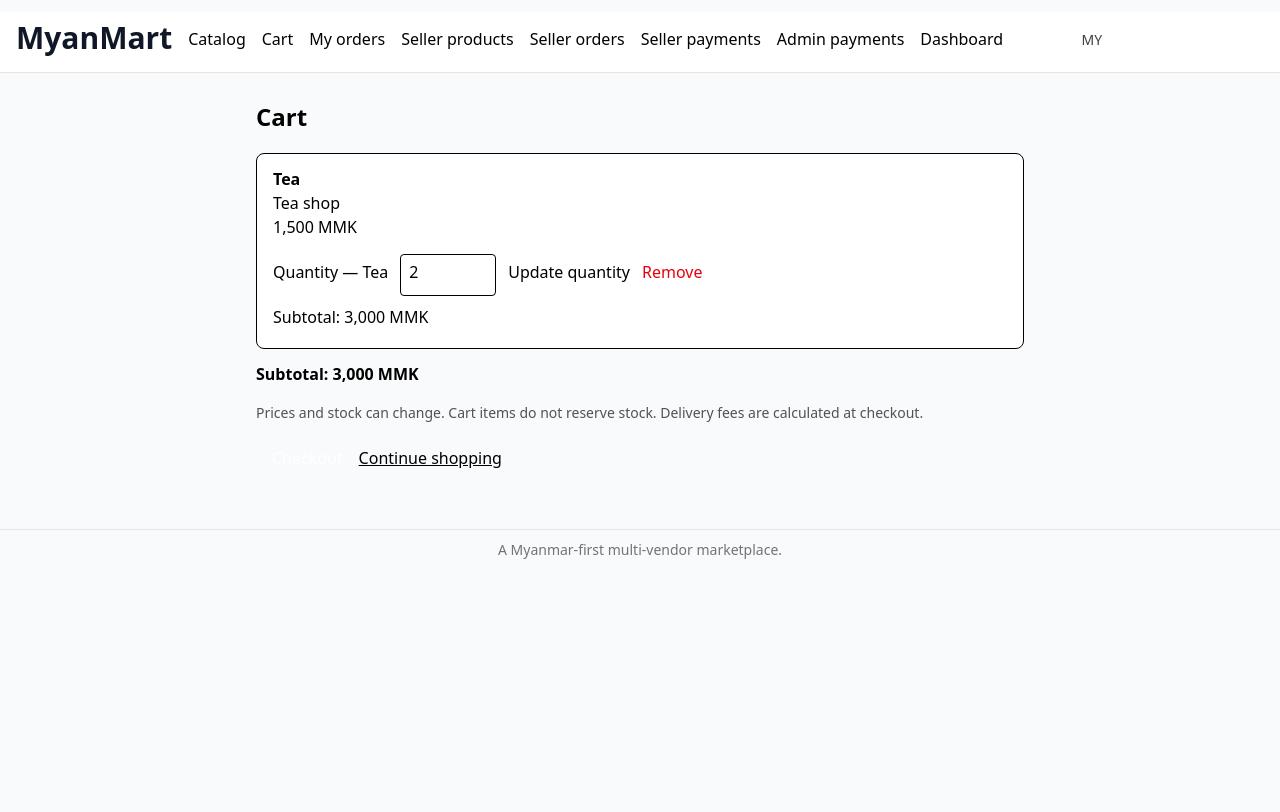
Test: shopping cart UI › refreshes changed stock after a conflict and keeps the error visible
Expected: the number field is shown, [400,254,496,296]
Click the button "Update quantity" at {"x": 569, "y": 275}, box [508,263,630,287]
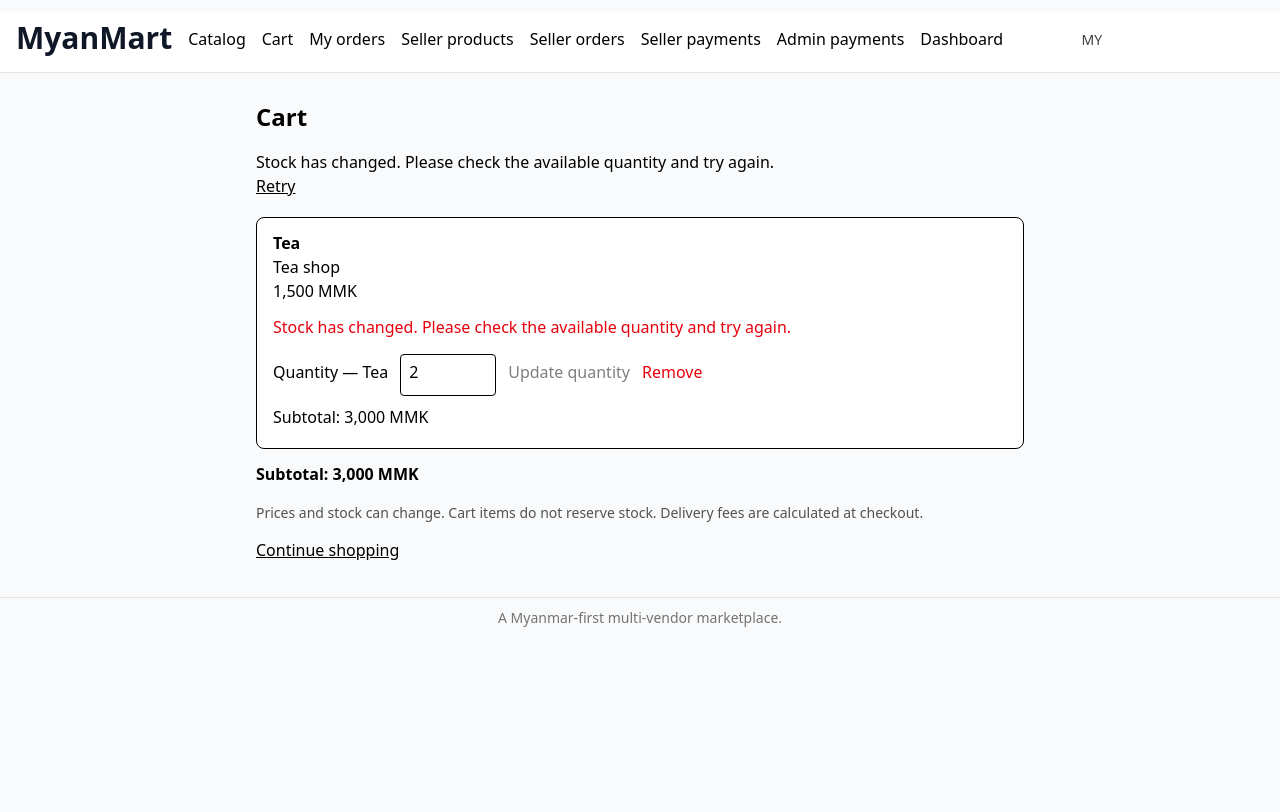
Expected: the button with aria-label "Remove — Tea" is enabled, [642,363,702,387]
Now the message "Stock has changed. Please check the available quantity and try again. Retry" is shown, box [256,147,774,201]
Now the number field is disabled, box [400,354,496,396]
